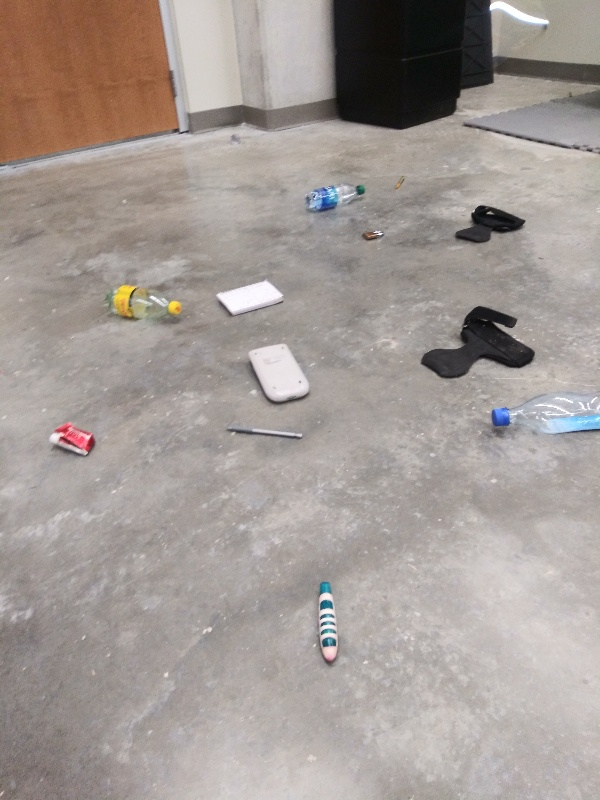bottle: (487, 385, 600, 439), (101, 280, 186, 326), (301, 177, 367, 216)
